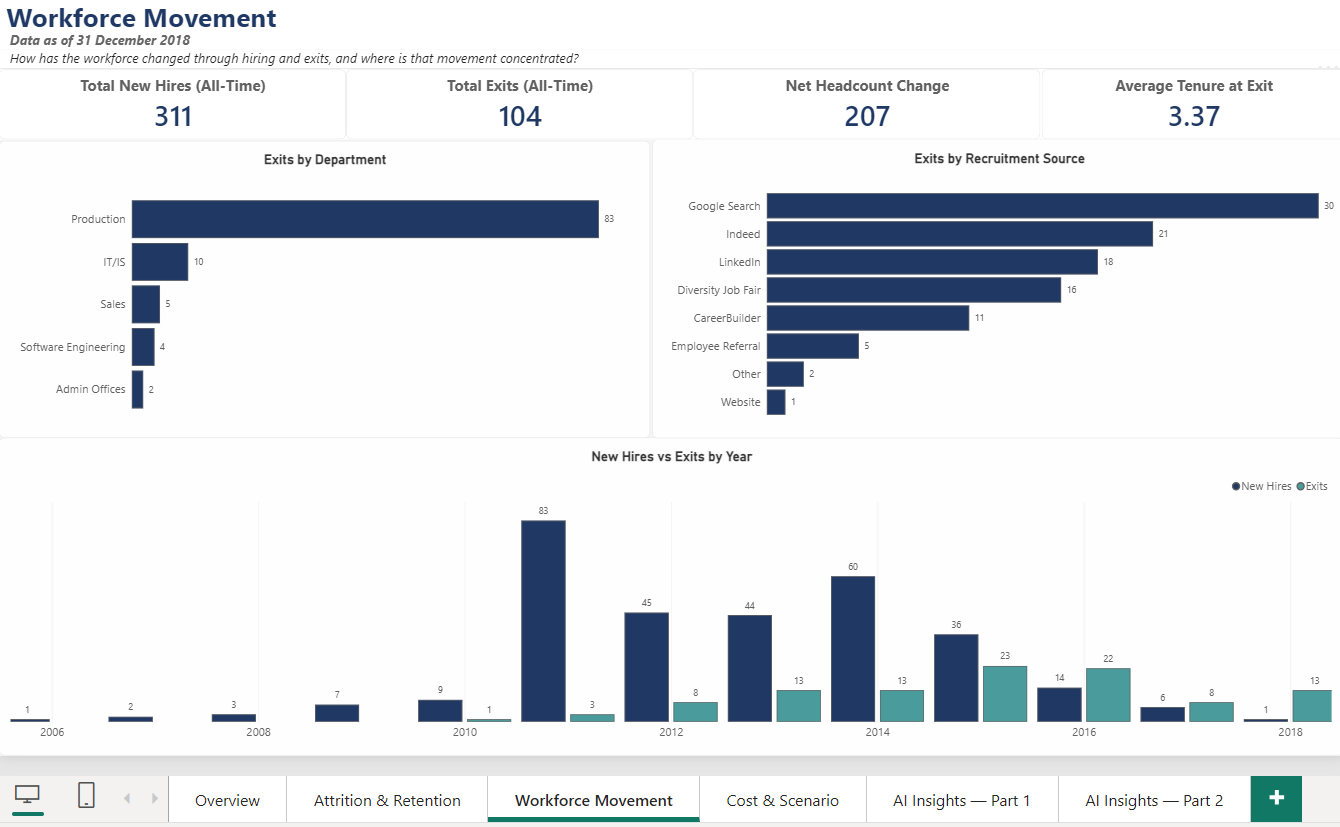

What the dashboard file says about the page in this screenshot:
{"tool":"powerbi","page":{"name":"Workforce Movement","canvas":[1920,1080],"ordinal":2},"visuals":[{"type":"group","id":"g1","title":"Group 1","box":[0,0,1920.8,100.2],"z":0},{"type":"textbox","box":[0,0,1920.8,73.6],"z":0,"group":"g1"},{"type":"textbox","box":[0,45.4,1920.8,54.8],"z":1000,"group":"g1"},{"type":"cardVisual","fields":{"Data":["HRDataset_v14.New Hires"]},"box":[0,100.2,495,100],"z":1000,"group":"g2"},{"type":"clusteredColumnChart","title":"New Hires vs Exits by Year","fields":{"Category":["DimDate.Year"],"Y":["HRDataset_v14.New Hires","HRDataset_v14.Exits"]},"box":[0,625.5,1918.8,453.7],"z":1000},{"type":"cardVisual","title":"Total New Hires (All-Time","fields":{"Data":["HRDataset_v14.Exits"]},"box":[495.7,100.2,495,100],"z":2000,"group":"g2"},{"type":"clusteredBarChart","title":"Exits by Department","fields":{"Category":["HRDataset_v14.Department"],"Y":["HRDataset_v14.Exits"]},"box":[0,202.7,929.4,424.1],"z":2000},{"type":"cardVisual","fields":{"Data":["HRDataset_v14.Net Headcount Change"]},"box":[991.4,100.2,495,100],"z":3000,"group":"g2"},{"type":"clusteredBarChart","title":"Exits by Recruitment Source","fields":{"Y":["HRDataset_v14.Exits"],"Category":["HRDataset_v14.RecruitmentSource"]},"box":[931.2,200.8,990.1,426.2],"z":3000},{"type":"group","id":"g2","title":"Group 2","box":[0,100.2,1920.8,100.2],"z":4000},{"type":"cardVisual","fields":{"Data":["HRDataset_v14.Average Tenure at Exit"]},"box":[1487.1,100.2,433.7,100.7],"z":4000,"group":"g2"}]}

Visuals, with their boxes on the page's 1920x1080 design canvas (x1, y1, x2, y2). These are canvas units, not pixel positions in the 1340x827 screenshot, which may show the page scaled, cropped or inside an application window:
"Group 1" group: rect(0, 0, 1921, 100)
textbox: rect(0, 0, 1921, 74)
textbox: rect(0, 45, 1921, 100)
cardVisual - HRDataset_v14.New Hires: rect(0, 100, 495, 200)
"New Hires vs Exits by Year" clusteredColumnChart: rect(0, 626, 1919, 1079)
"Total New Hires (All-Time" cardVisual: rect(496, 100, 991, 200)
"Exits by Department" clusteredBarChart: rect(0, 203, 929, 627)
cardVisual - HRDataset_v14.Net Headcount Change: rect(991, 100, 1486, 200)
"Exits by Recruitment Source" clusteredBarChart: rect(931, 201, 1921, 627)
"Group 2" group: rect(0, 100, 1921, 200)
cardVisual - HRDataset_v14.Average Tenure at Exit: rect(1487, 100, 1921, 201)
